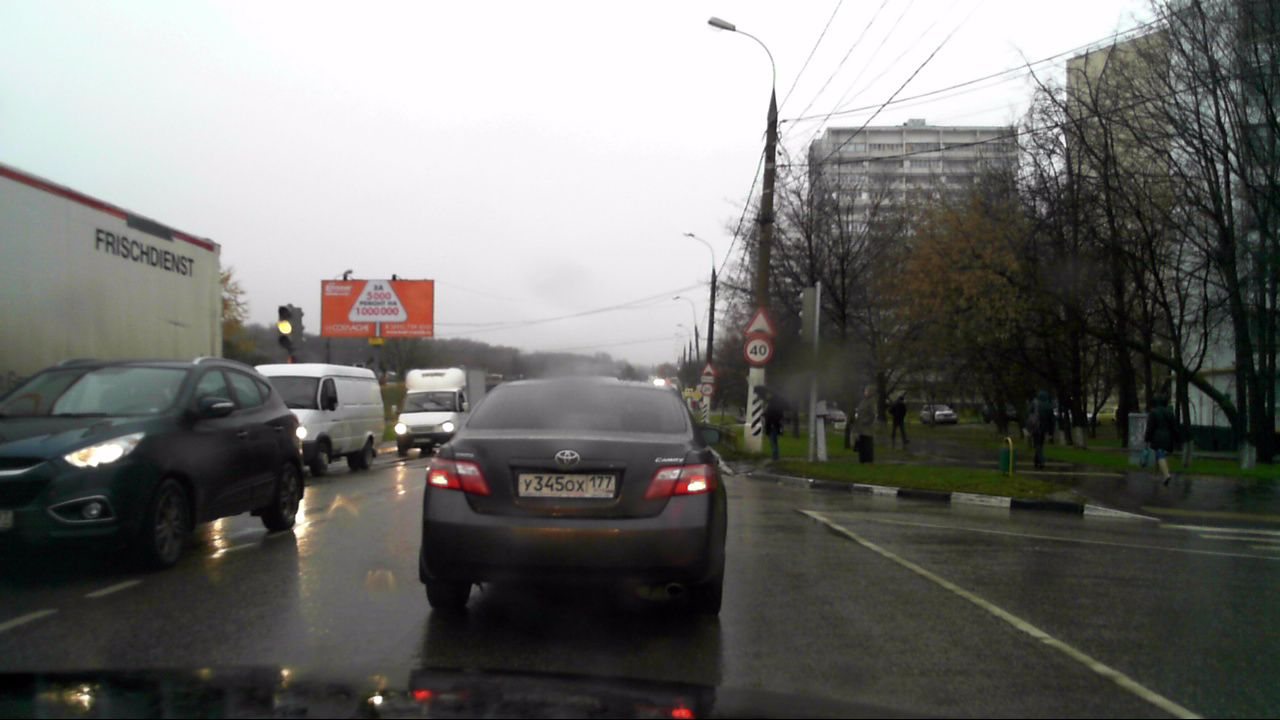speed_warning_40: (745, 338, 771, 363)
